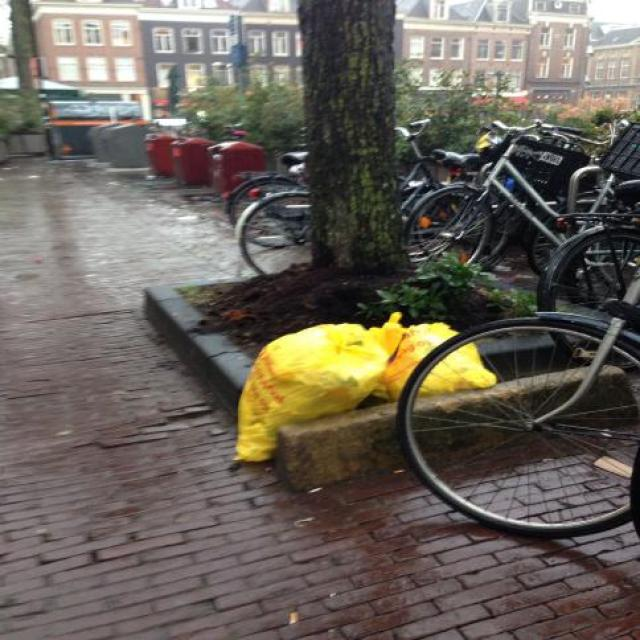Anorganik: (222, 320, 386, 472), (360, 282, 502, 410)
